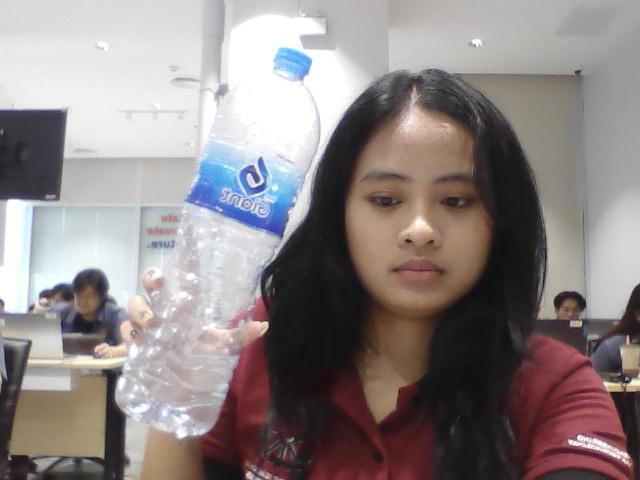bottle: (123, 33, 319, 429)
